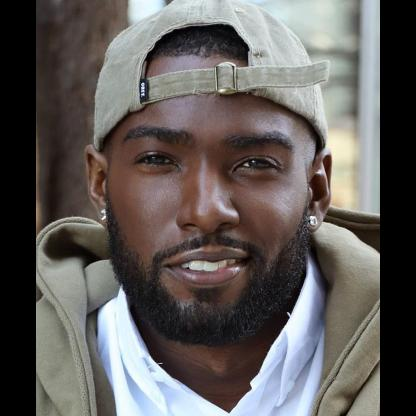Male: (85, 92, 331, 340)
